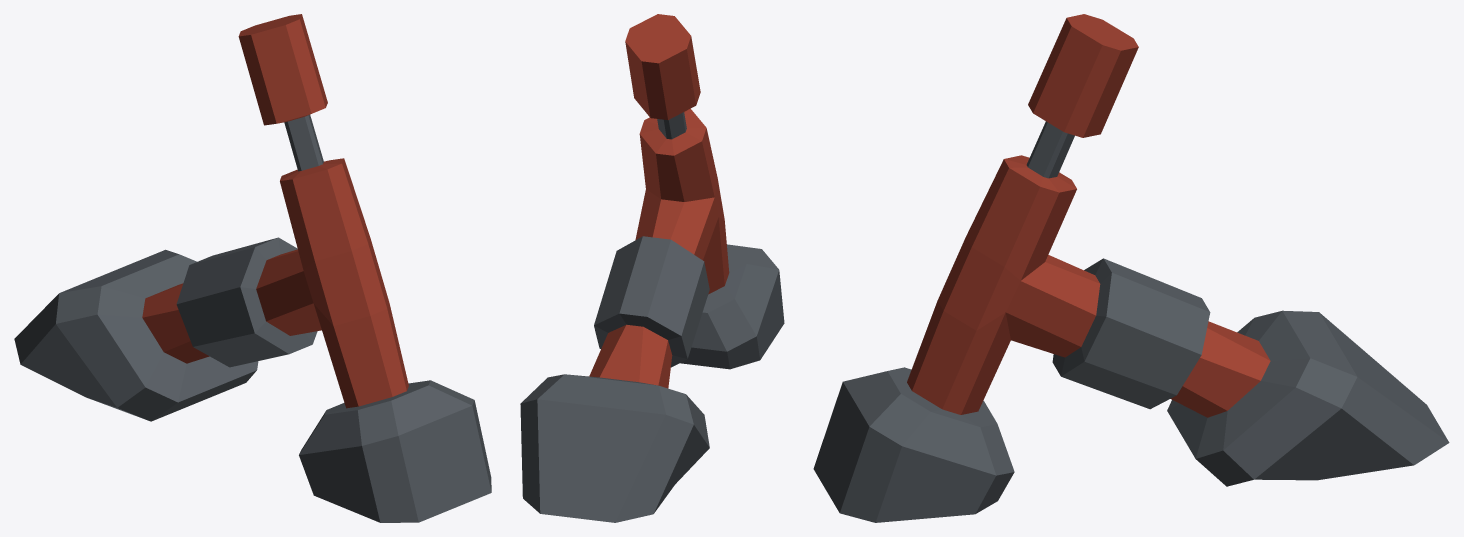
Rendered from Dropship_04_Lander_Rear_Right_Red.fbx.
3 renders of one model, left to right at view 1: azimuth 30°, elevation 25°; view 2: azimuth 150°, elevation 25°; view 3: azimuth 270°, elevation 25°, orthographic. The views are drawn at different scales.
Visible parts, largest first — view 1: Dropship_04_Lander_Rear_Right_Red; view 2: Dropship_04_Lander_Rear_Right_Red; view 3: Dropship_04_Lander_Rear_Right_Red.
Part boxes in pixels (x1=…): Dropship_04_Lander_Rear_Right_Red: x1=14, y1=14, x2=491, y2=522; Dropship_04_Lander_Rear_Right_Red: x1=520, y1=14, x2=784, y2=522; Dropship_04_Lander_Rear_Right_Red: x1=813, y1=14, x2=1449, y2=522.
Size of the model in its own units: 136 by 227 by 289.
Materials: 1 (1 with a texture image).
